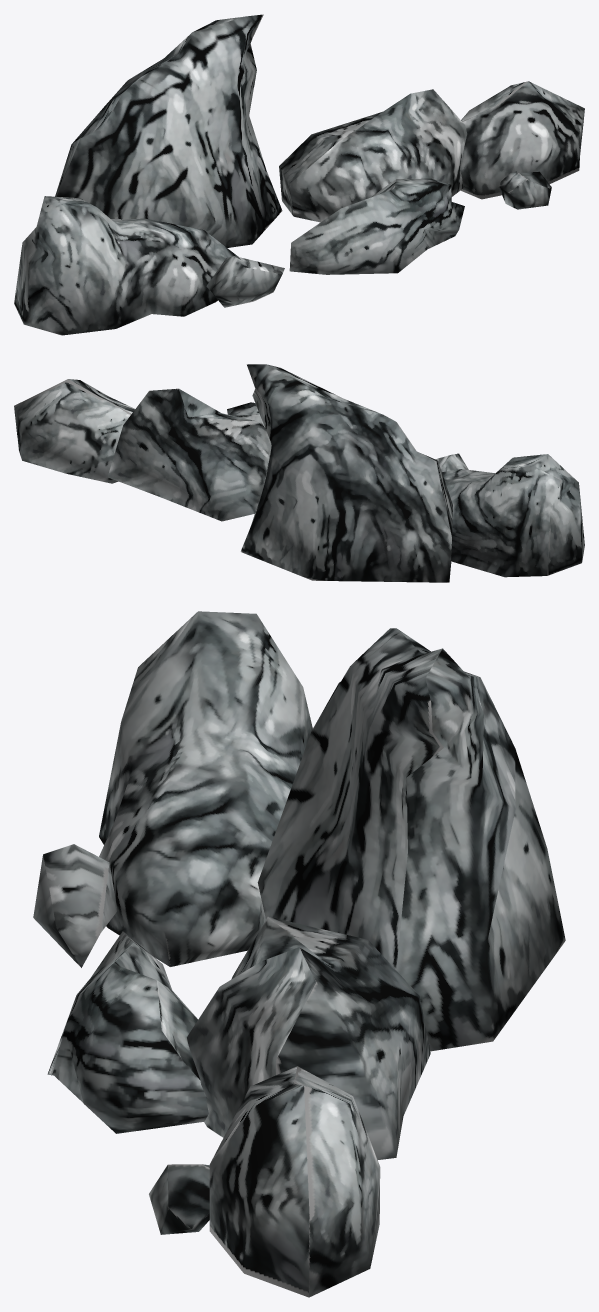
Rendered from PRP_BouldersH.fbx.
3 renders of one model, top to bottom at view 1: azimuth 30°, elevation 25°; view 2: azimuth 150°, elevation 25°; view 3: azimuth 270°, elevation 25°, orthographic. The views are drawn at different scales.
Parts seen in each view (by area): view 1: PRP_BouldersH; view 2: PRP_BouldersH; view 3: PRP_BouldersH.
Part boxes in pixels (box(x1,y1,x2,y2)): PRP_BouldersH: box(14, 14, 584, 335); PRP_BouldersH: box(14, 364, 584, 582); PRP_BouldersH: box(33, 611, 565, 1297).
Size of the model in its own units: 762 by 239 by 325.
Materials: 1 (1 with a texture image).
